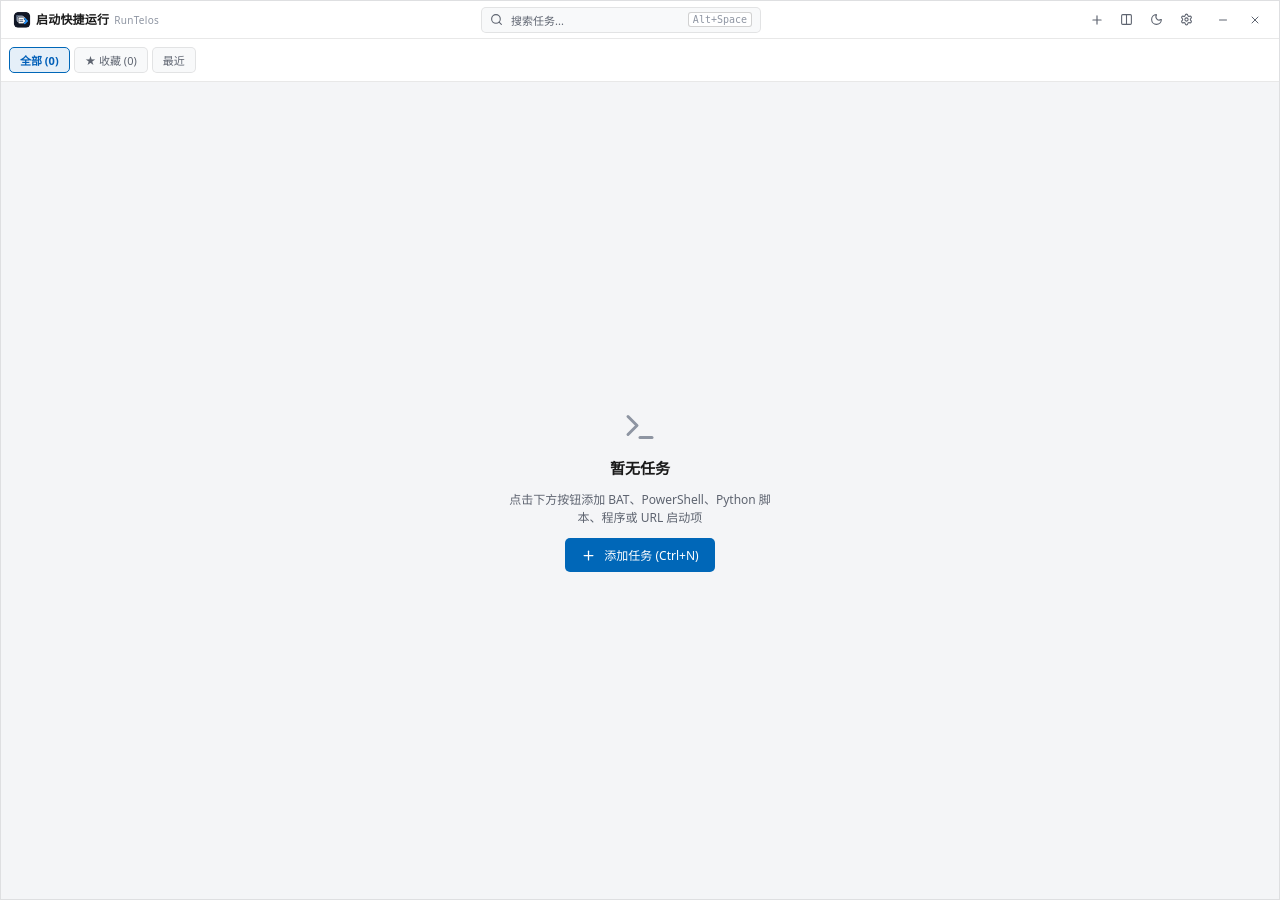
it: App v2 › opens settings dialog and toggles settings
The image size is (1280, 900).
Expected: the text "启动快捷运行" is shown, [36,14,109,26]
Click the button titled "设置 (Ctrl+,)". click: {"x": 1187, "y": 20}
box: [1173,6,1201,34]
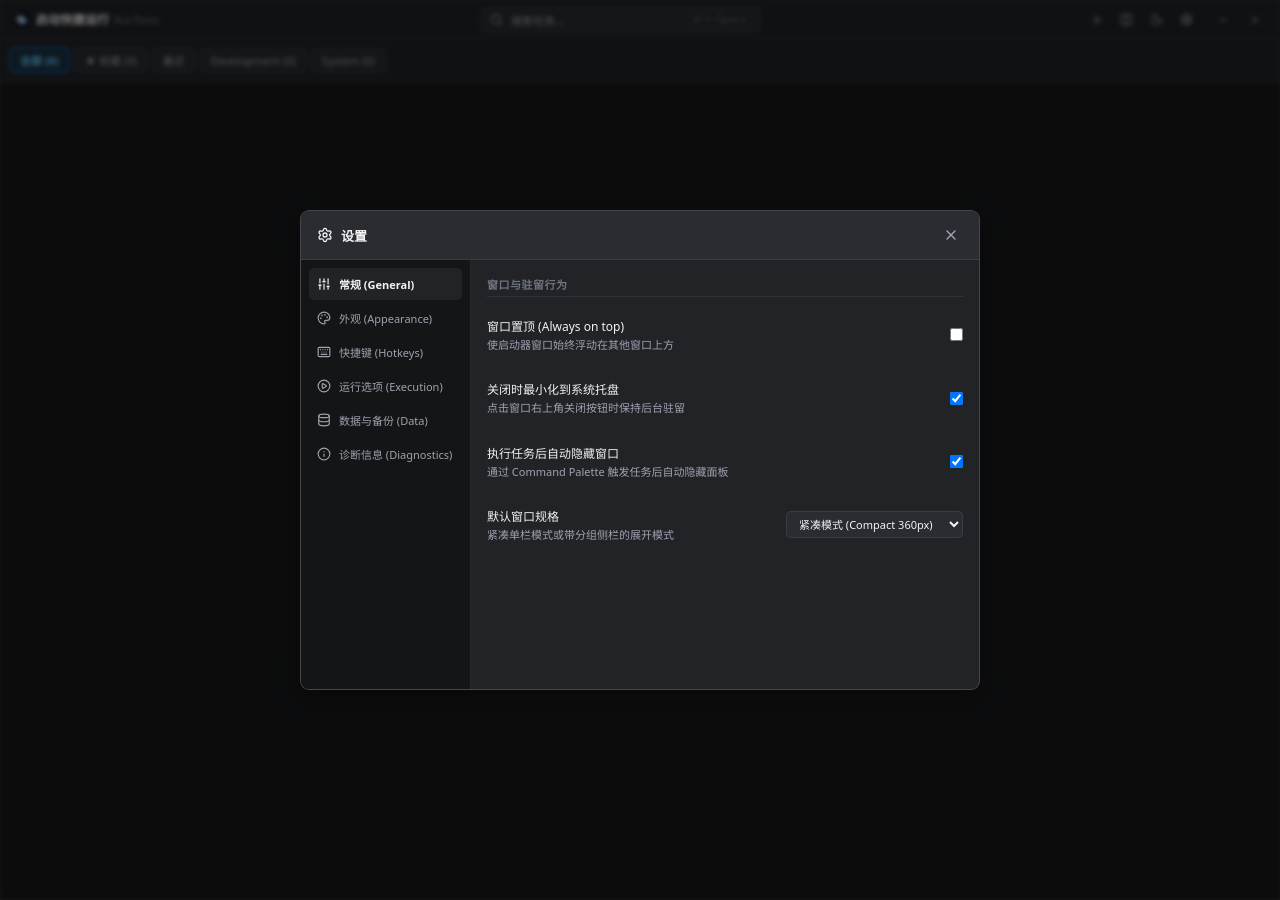
Expected: the text "常规 (General)" is shown, [339,276,414,292]
Expected: the text "窗口置顶 (Always on top)" is shown, [487,318,624,335]
